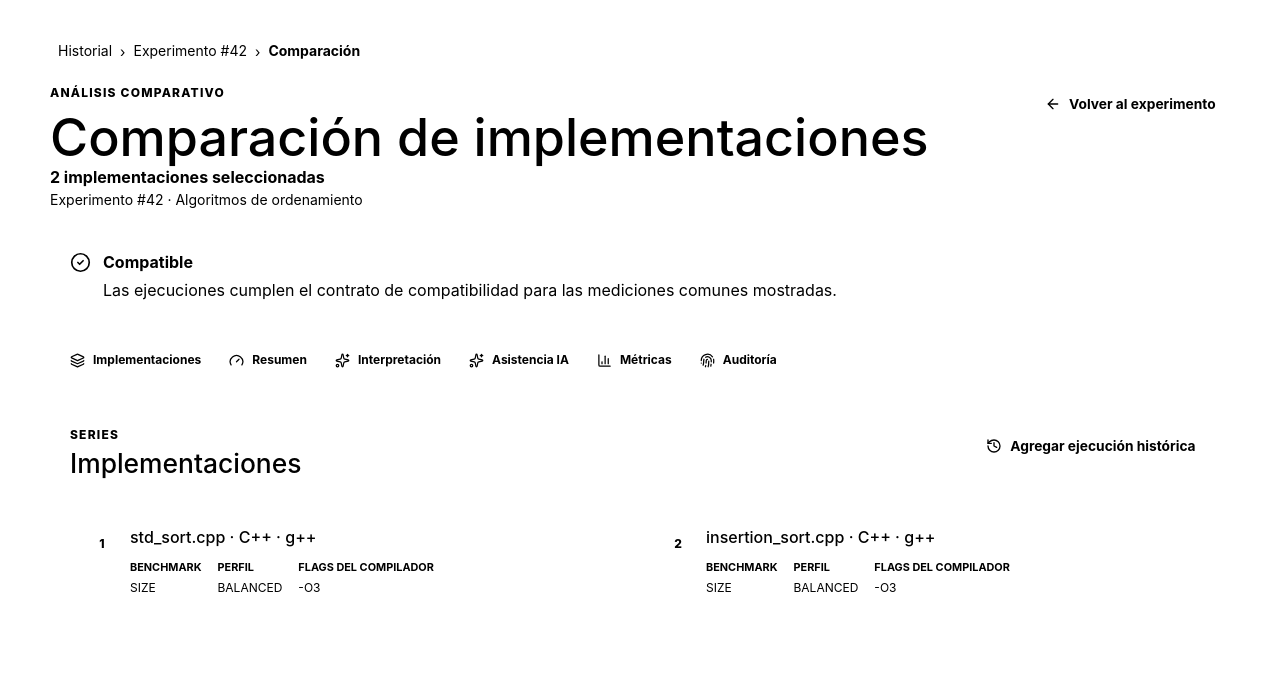
it: ComparisonPage › candidate search posts exact body, order and credentials
Expected: the heading "Comparación de implementaciones" is shown, [50,110,928,165]
Click the button "Agregar ejecución histórica".
click(1091, 446)  # box [972,426,1210,466]
(page scrolled)
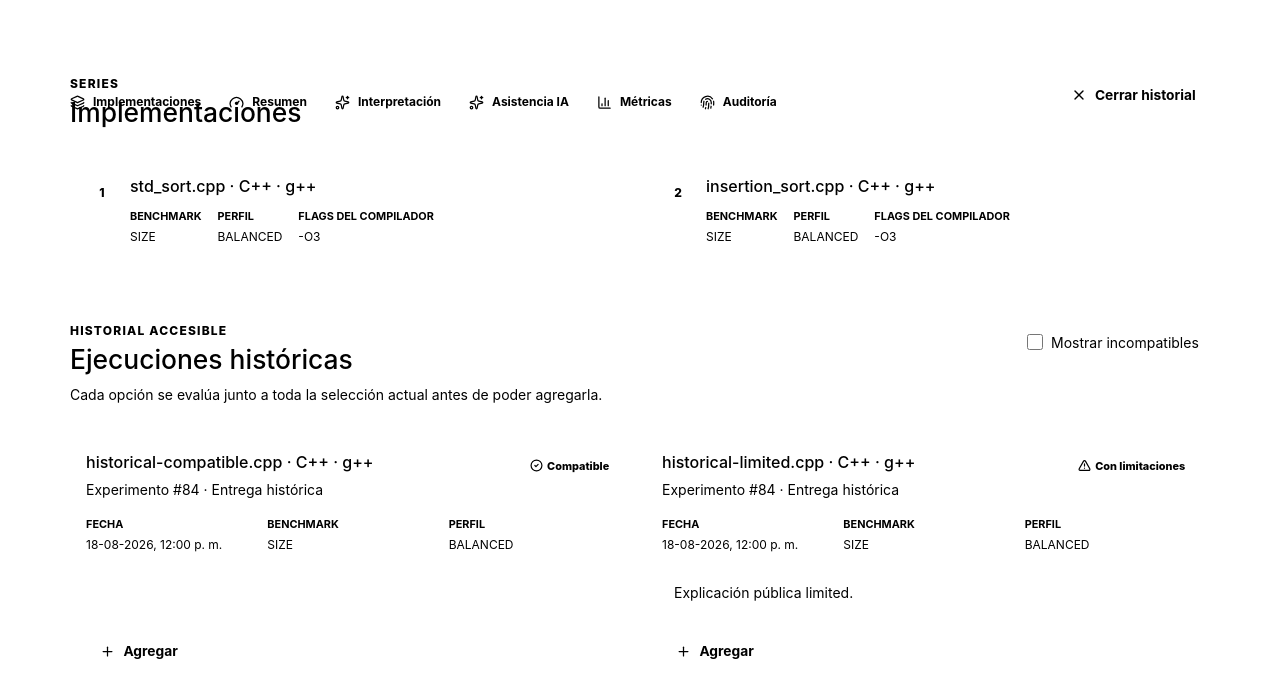
Expected: the heading "Ejecuciones históricas" is shown, [70,343,353,375]
